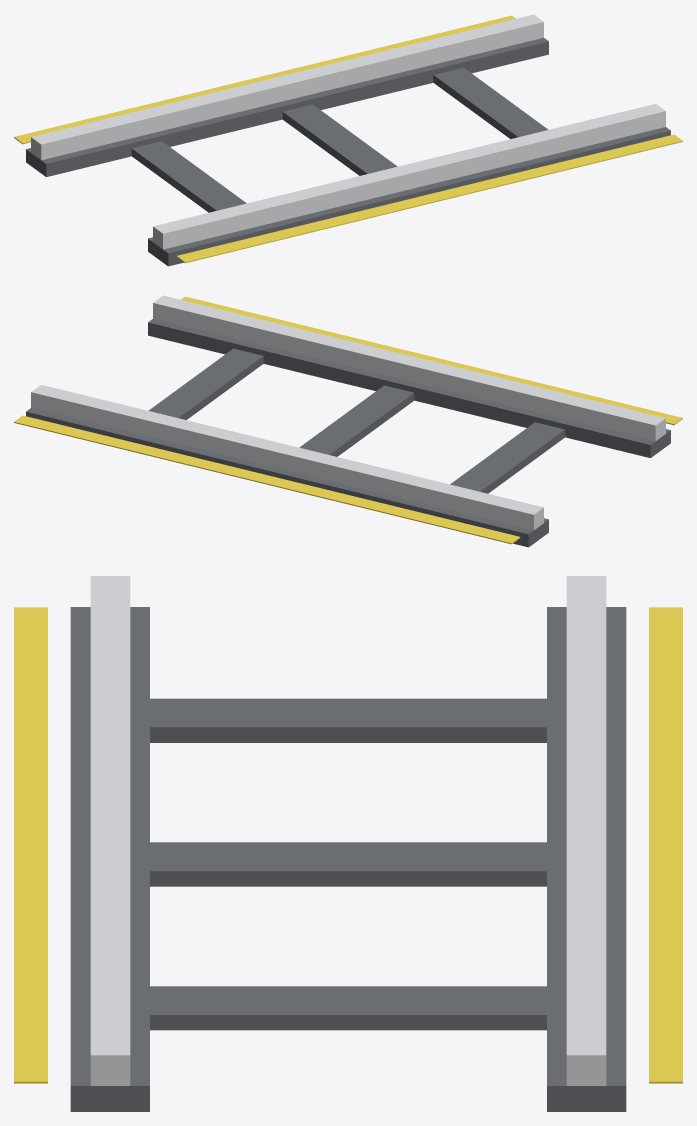
The model's file is vertical-farm-and-hydroponics-tower-vertical-farm-and--7085c4a9__38379.glb.
3 renders of one model, top to bottom at view 1: azimuth 30°, elevation 25°; view 2: azimuth 150°, elevation 25°; view 3: azimuth 270°, elevation 25°, orthographic. The views are drawn at different scales.
Parts seen in each view (by area): view 1: vertical-farm-and-hydroponics-tower-shuttle-rail-run; view 2: vertical-farm-and-hydroponics-tower-shuttle-rail-run; view 3: vertical-farm-and-hydroponics-tower-shuttle-rail-run.
Boxes of the visible parts, <box> form: vertical-farm-and-hydroponics-tower-shuttle-rail-run: <box>14,14,682,266</box>; vertical-farm-and-hydroponics-tower-shuttle-rail-run: <box>14,295,682,547</box>; vertical-farm-and-hydroponics-tower-shuttle-rail-run: <box>14,576,682,1111</box>.
Size of the model in its own units: 2 by 0.1101 by 1.18.
